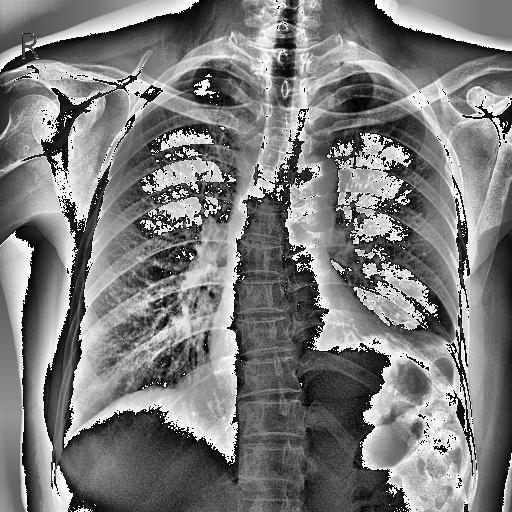10- Pleural effusion: (374, 334, 467, 450), (438, 334, 460, 364)
11- Pleural thickening: (438, 334, 460, 364)
9- Other lesion: (314, 326, 463, 402), (342, 317, 463, 353)
